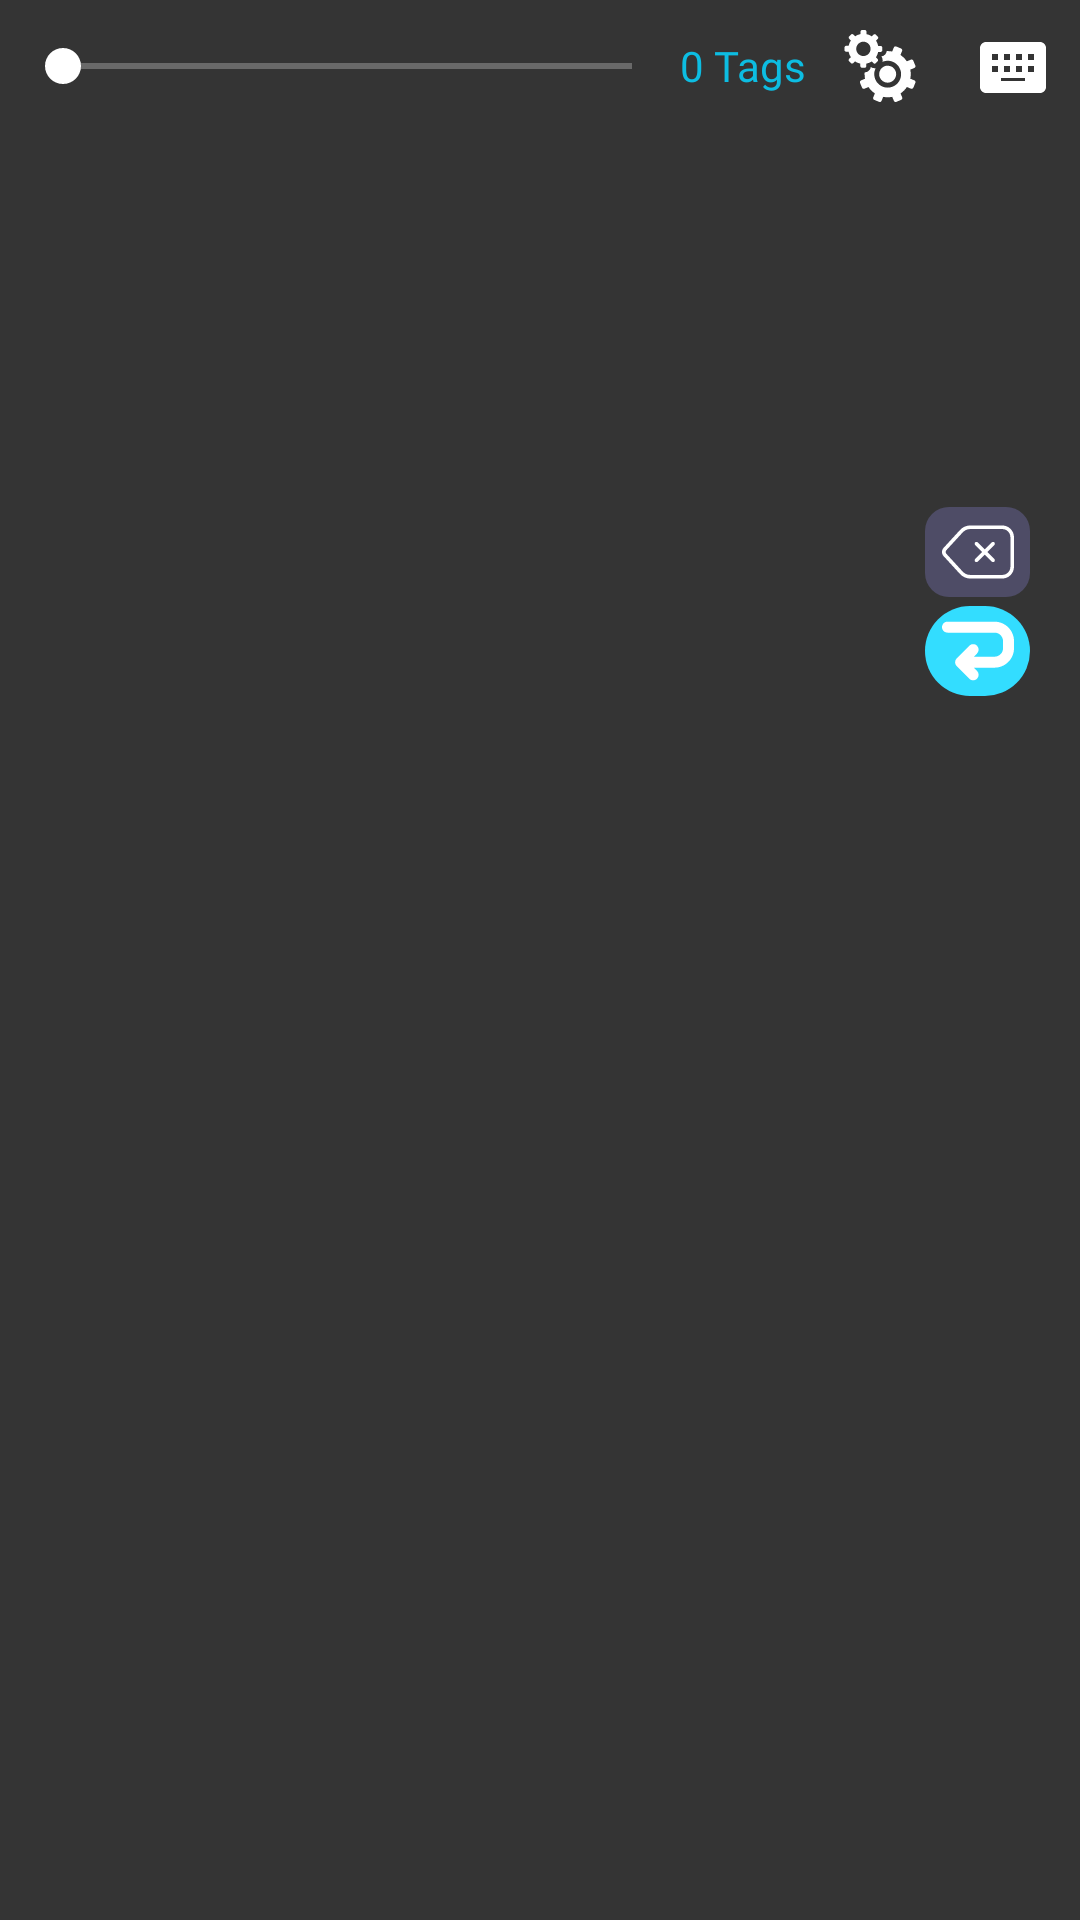

Icon bounding boxes for this 1080px x 1920px phone screenshot, format (x1=x1, y1=y1, x2=x2, y2=y2):
backspace: (x1=925, y1=507, x2=1030, y2=597)
enter: (x1=925, y1=606, x2=1030, y2=696)
keyboard: (x1=980, y1=42, x2=1046, y2=93)
Settings: (x1=844, y1=30, x2=916, y2=102)
